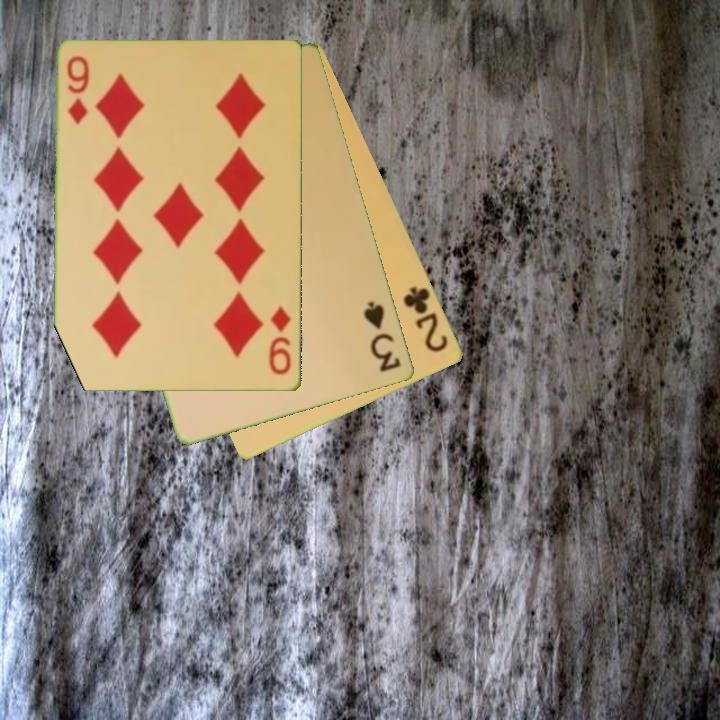2c: (400, 283, 452, 356)
3s: (360, 298, 405, 376)
9d: (64, 53, 93, 128), (266, 303, 294, 378)
